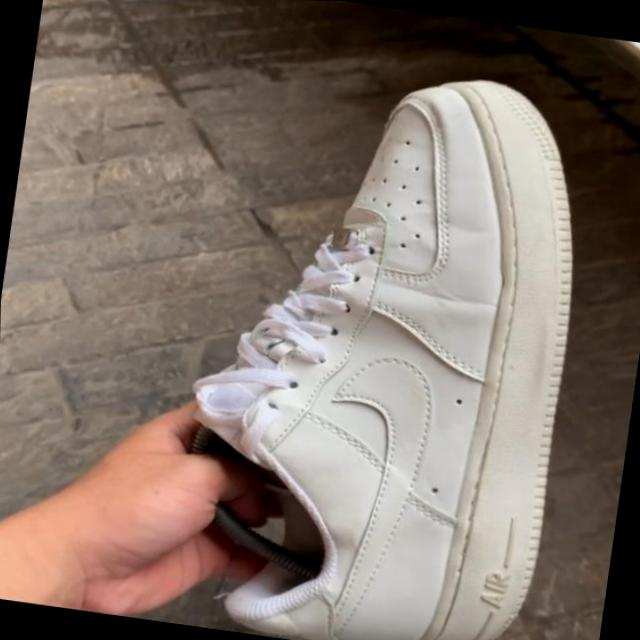nike_fake_airforce: (150, 39, 605, 640)
